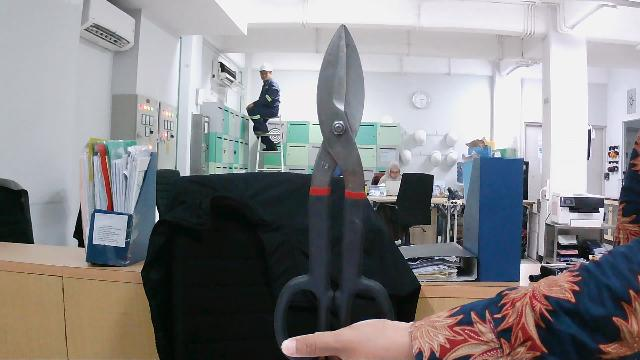gunting_plat: (264, 13, 415, 360)
